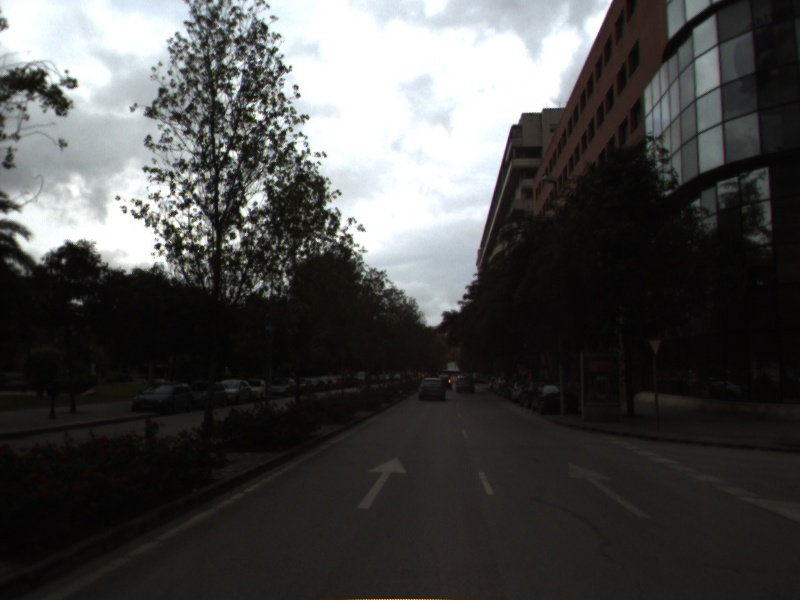STRAIGHT: (565, 459, 653, 519), (354, 454, 410, 511)
